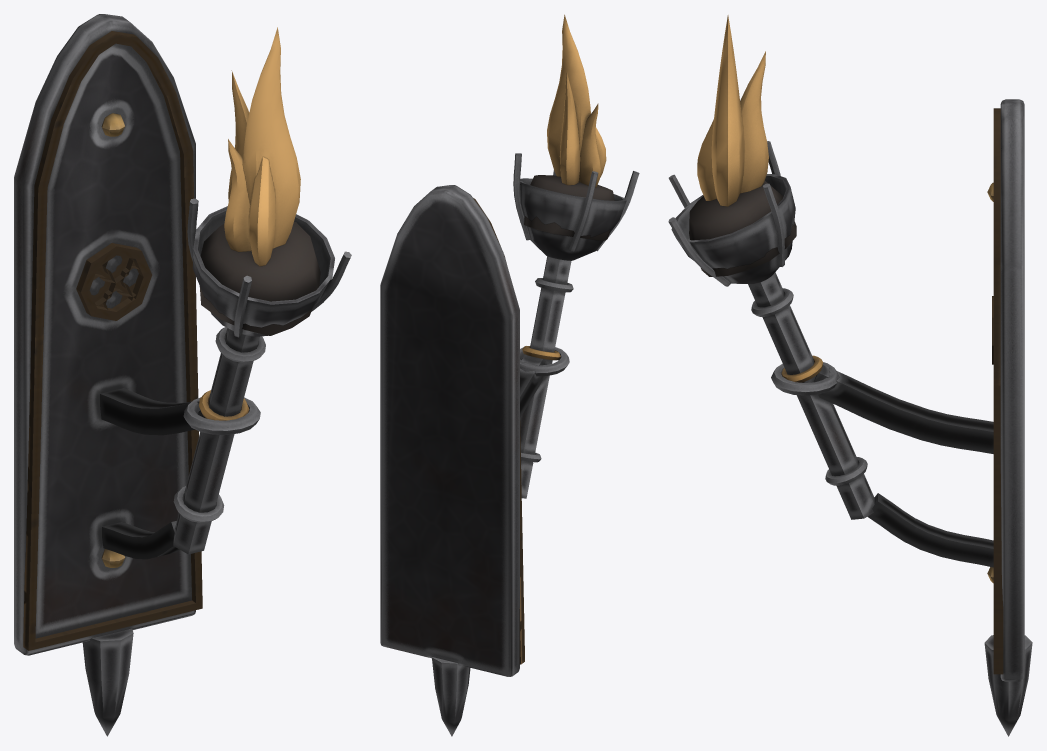
Rendered from TorchSconce.fbx.
The picture shows the model from 3 angles, left to right: view 1: azimuth 30°, elevation 25°; view 2: azimuth 150°, elevation 25°; view 3: azimuth 270°, elevation 25°; orthographic projection. The views are drawn at different scales.
Visible parts, largest first — view 1: TorchSconce_Main, TorchSconce_Glow; view 2: TorchSconce_Main, TorchSconce_Glow; view 3: TorchSconce_Main, TorchSconce_Glow.
Boxes of the visible parts, x1=… form: TorchSconce_Main: x1=14, y1=14, x2=351, y2=736; TorchSconce_Glow: x1=224, y1=27, x2=300, y2=266; TorchSconce_Main: x1=380, y1=153, x2=639, y2=736; TorchSconce_Glow: x1=547, y1=14, x2=606, y2=187; TorchSconce_Main: x1=668, y1=99, x2=1032, y2=736; TorchSconce_Glow: x1=697, y1=15, x2=768, y2=206.
Size of the model in its own units: 44.36 by 200 by 90.88.
